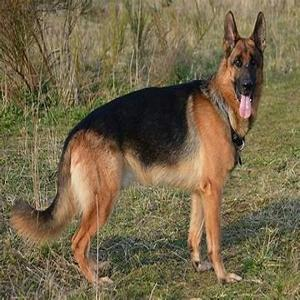dog: (34, 24, 266, 261)
